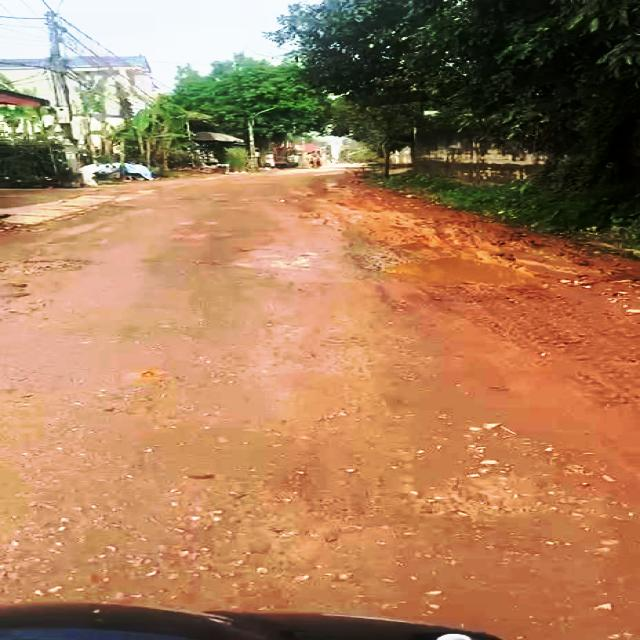pothole: (367, 253, 535, 288), (0, 256, 102, 275)
